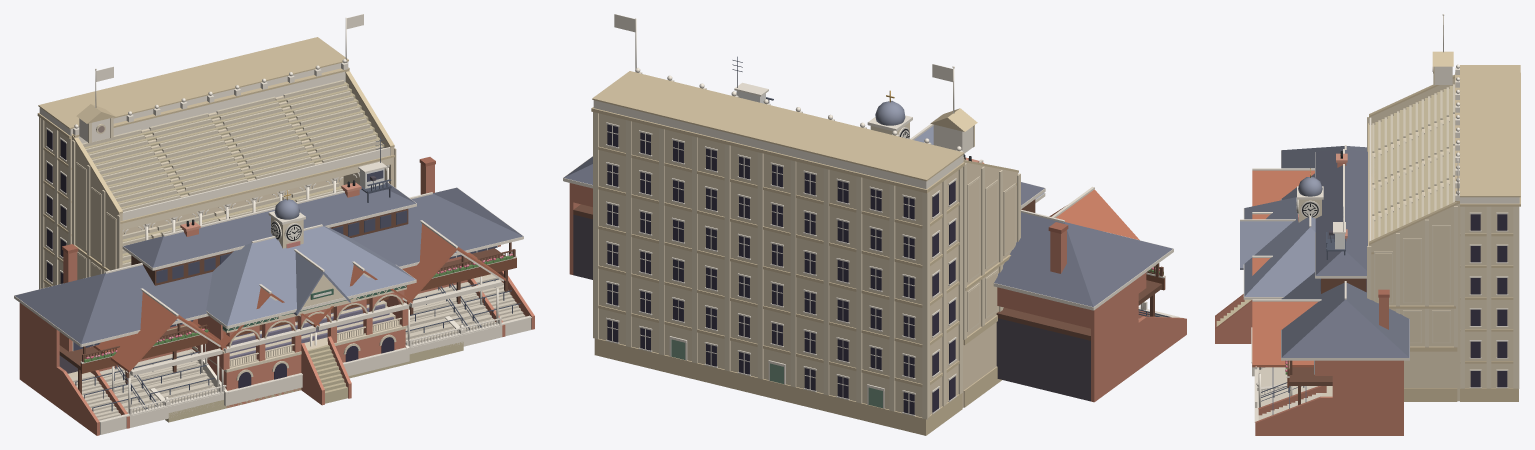
Rendered from gen-tight-l-big_stands.glb.
The picture shows the model from 3 angles, left to right: view 1: azimuth 30°, elevation 25°; view 2: azimuth 150°, elevation 25°; view 3: azimuth 270°, elevation 25°; orthographic projection. The views are drawn at different scales.
Visible parts, largest first — view 1: park_roof_terrace_stand, gen_garden_stand, park_old_pavilion, chester_tattersalls, gen_terrace_24; view 2: park_roof_terrace_stand, gen_garden_stand, chester_tattersalls, park_old_pavilion; view 3: park_roof_terrace_stand, gen_garden_stand, park_old_pavilion, chester_tattersalls.
Boxes of the visible parts, x1,y1,x2,y2 form: park_roof_terrace_stand: (37, 14, 465, 422); gen_garden_stand: (14, 137, 534, 435); park_old_pavilion: (180, 180, 416, 407); chester_tattersalls: (90, 220, 505, 428); gen_terrace_24: (195, 345, 409, 406); park_roof_terrace_stand: (591, 14, 1020, 435); gen_garden_stand: (563, 56, 1186, 402); chester_tattersalls: (979, 159, 1149, 318); park_old_pavilion: (867, 90, 1045, 203); park_roof_terrace_stand: (1256, 14, 1520, 401); gen_garden_stand: (1254, 145, 1409, 435); park_old_pavilion: (1215, 151, 1347, 343); chester_tattersalls: (1252, 168, 1326, 415).
Size of the model in its own units: 59.5 by 35.42 by 36.97.
